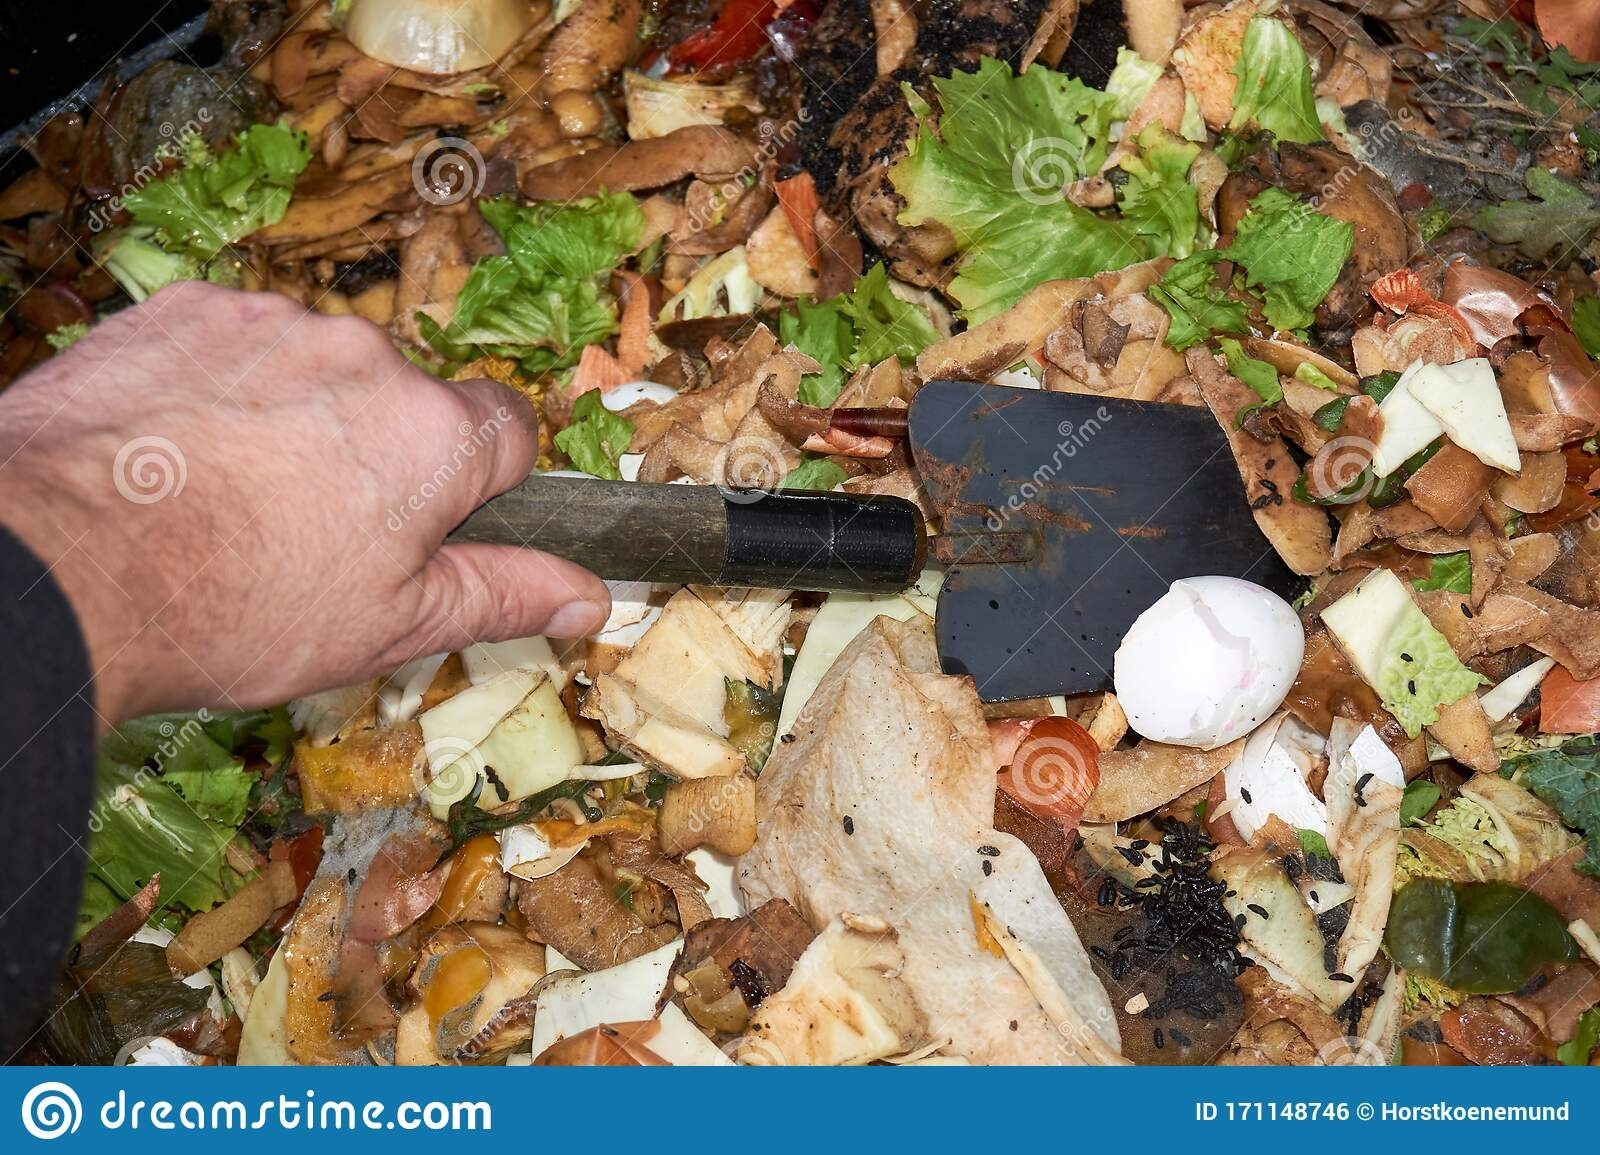kitchen_waste: (878, 45, 1191, 323), (409, 168, 675, 376), (1099, 551, 1324, 761), (99, 107, 335, 303), (1087, 826, 1281, 1042), (489, 836, 686, 1013), (1308, 559, 1498, 739), (1373, 873, 1584, 1013), (1434, 258, 1600, 436), (1347, 349, 1535, 491), (99, 730, 243, 905), (1212, 178, 1365, 334), (1311, 760, 1416, 986), (507, 117, 780, 202), (330, 1, 554, 106), (329, 811, 466, 953), (157, 848, 311, 967), (1222, 11, 1339, 156), (1104, 120, 1225, 261)
metal: (465, 368, 1319, 740)
